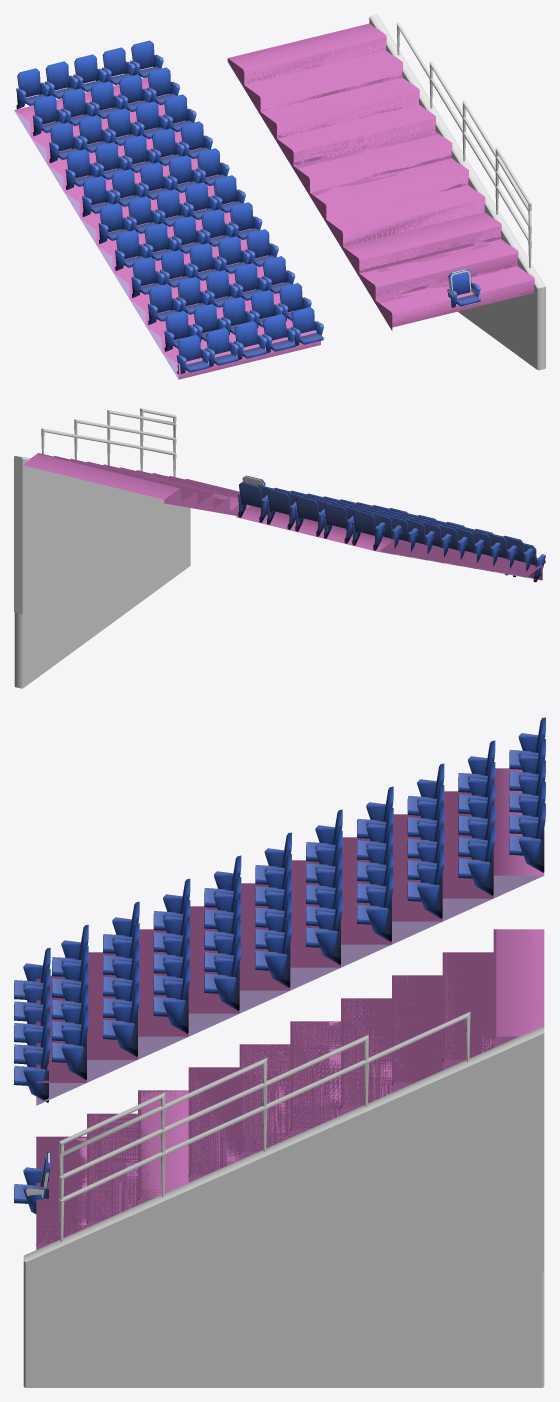
File: ExtraModules.fbx
The picture shows the model from 3 angles, top to bottom: view 1: azimuth 30°, elevation 25°; view 2: azimuth 150°, elevation 25°; view 3: azimuth 270°, elevation 25°; orthographic projection. The views are drawn at different scales.
Visible parts, largest first — view 1: SeatGroup_Med, Stair_Base_Med, Stair_Base, SeatGroup_Low, Stair_Base_High, Bench_Med, Wall_Low, Wall_Angle_Low, Rails_X4, Bench_Low, Rails_X3, Seat_Med (+1 smaller); view 2: Wall_Low, Wall_Angle_Low, SeatGroup_Low, SeatGroup_Med, Stair_Base, Stair_Base_Med, Rails_X4, Rails_X3, Stair_Base_High, Rails_X2; view 3: Wall_Angle_Low, Wall_Low, SeatGroup_Med, Stair_Base_Med, SeatGroup_Low, Stair_Base, Rails_X4, Bench_Med, Stair_Base_High, Rails_X3, Bench_Low, Rails_X2.
Boxes of the visible parts, left/top/right/bottom form: SeatGroup_Med: left=14, top=40, right=320, bottom=379; Stair_Base_Med: left=243, top=34, right=534, bottom=327; Stair_Base: left=227, top=23, right=534, bottom=330; SeatGroup_Low: left=14, top=41, right=311, bottom=379; Stair_Base_High: left=229, top=24, right=533, bottom=326; Bench_Med: left=176, top=307, right=323, bottom=374; Wall_Low: left=458, top=293, right=545, bottom=370; Wall_Angle_Low: left=369, top=14, right=545, bottom=295; Rails_X4: left=396, top=22, right=531, bottom=268; Bench_Low: left=177, top=308, right=323, bottom=371; Rails_X3: left=429, top=61, right=531, bottom=240; Seat_Med: left=447, top=269, right=480, bottom=307; Wall_Low: left=14, top=505, right=190, bottom=688; Wall_Angle_Low: left=14, top=456, right=171, bottom=614; SeatGroup_Low: left=238, top=482, right=540, bottom=580; SeatGroup_Med: left=236, top=482, right=542, bottom=580; Stair_Base: left=23, top=453, right=250, bottom=515; Stair_Base_Med: left=37, top=453, right=239, bottom=510; Rails_X4: left=41, top=428, right=176, bottom=476; Rails_X3: left=74, top=419, right=176, bottom=453; Stair_Base_High: left=23, top=462, right=233, bottom=509; Rails_X2: left=107, top=410, right=176, bottom=438; Wall_Angle_Low: left=23, top=1026, right=544, bottom=1272; Wall_Low: left=23, top=1272, right=544, bottom=1387; SeatGroup_Med: left=36, top=717, right=545, bottom=1082; Stair_Base_Med: left=36, top=929, right=496, bottom=1243; SeatGroup_Low: left=36, top=717, right=544, bottom=1105; Stair_Base: left=36, top=929, right=544, bottom=1249; Rails_X4: left=59, top=1011, right=470, bottom=1241; Bench_Med: left=14, top=947, right=50, bottom=1102; Stair_Base_High: left=76, top=929, right=544, bottom=1228; Rails_X3: left=59, top=1034, right=368, bottom=1199; Bench_Low: left=14, top=948, right=48, bottom=1101; Rails_X2: left=59, top=1057, right=267, bottom=1176.
Size of the model in its own units: 5110 by 3485 by 4189.
